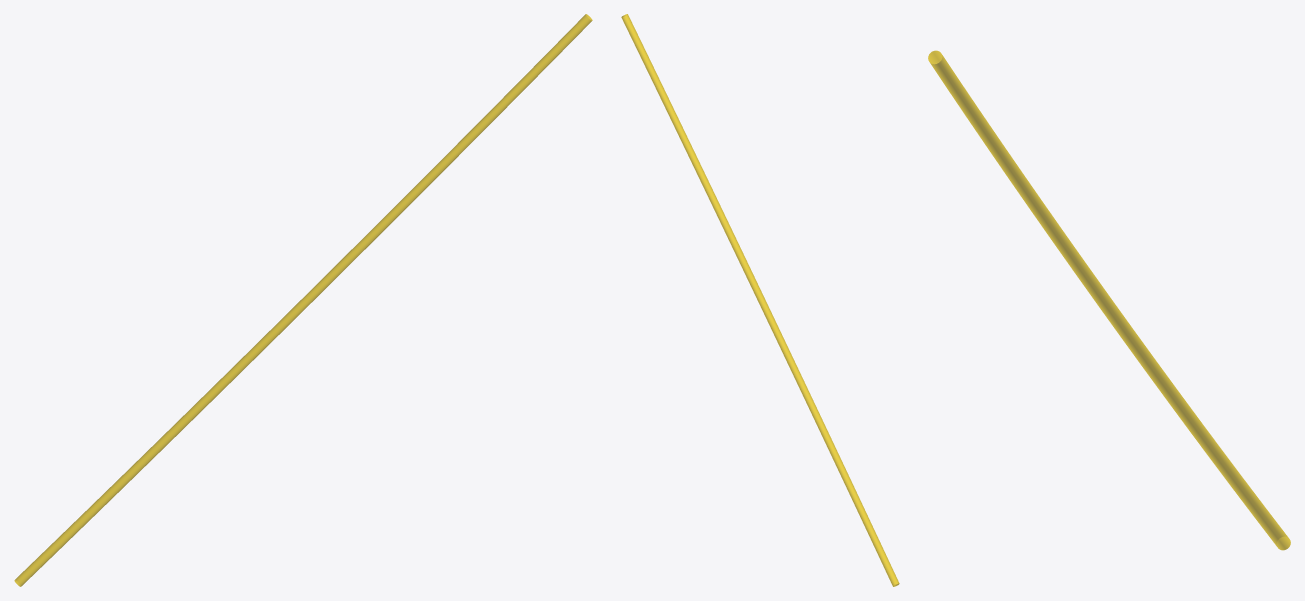
The model's file is Event_84804159_track_1.fbx.
3 renders of one model, left to right at view 1: azimuth 30°, elevation 25°; view 2: azimuth 150°, elevation 25°; view 3: azimuth 270°, elevation 25°, orthographic. The views are drawn at different scales.
Visible parts, largest first — view 1: Model; view 2: Model; view 3: Model.
Boxes of the visible parts, <box> form: Model: <box>14,14,592,586</box>; Model: <box>621,14,899,586</box>; Model: <box>928,50,1290,550</box>.
Size of the model in its own units: 2.27 by 2.52 by 0.9816.
